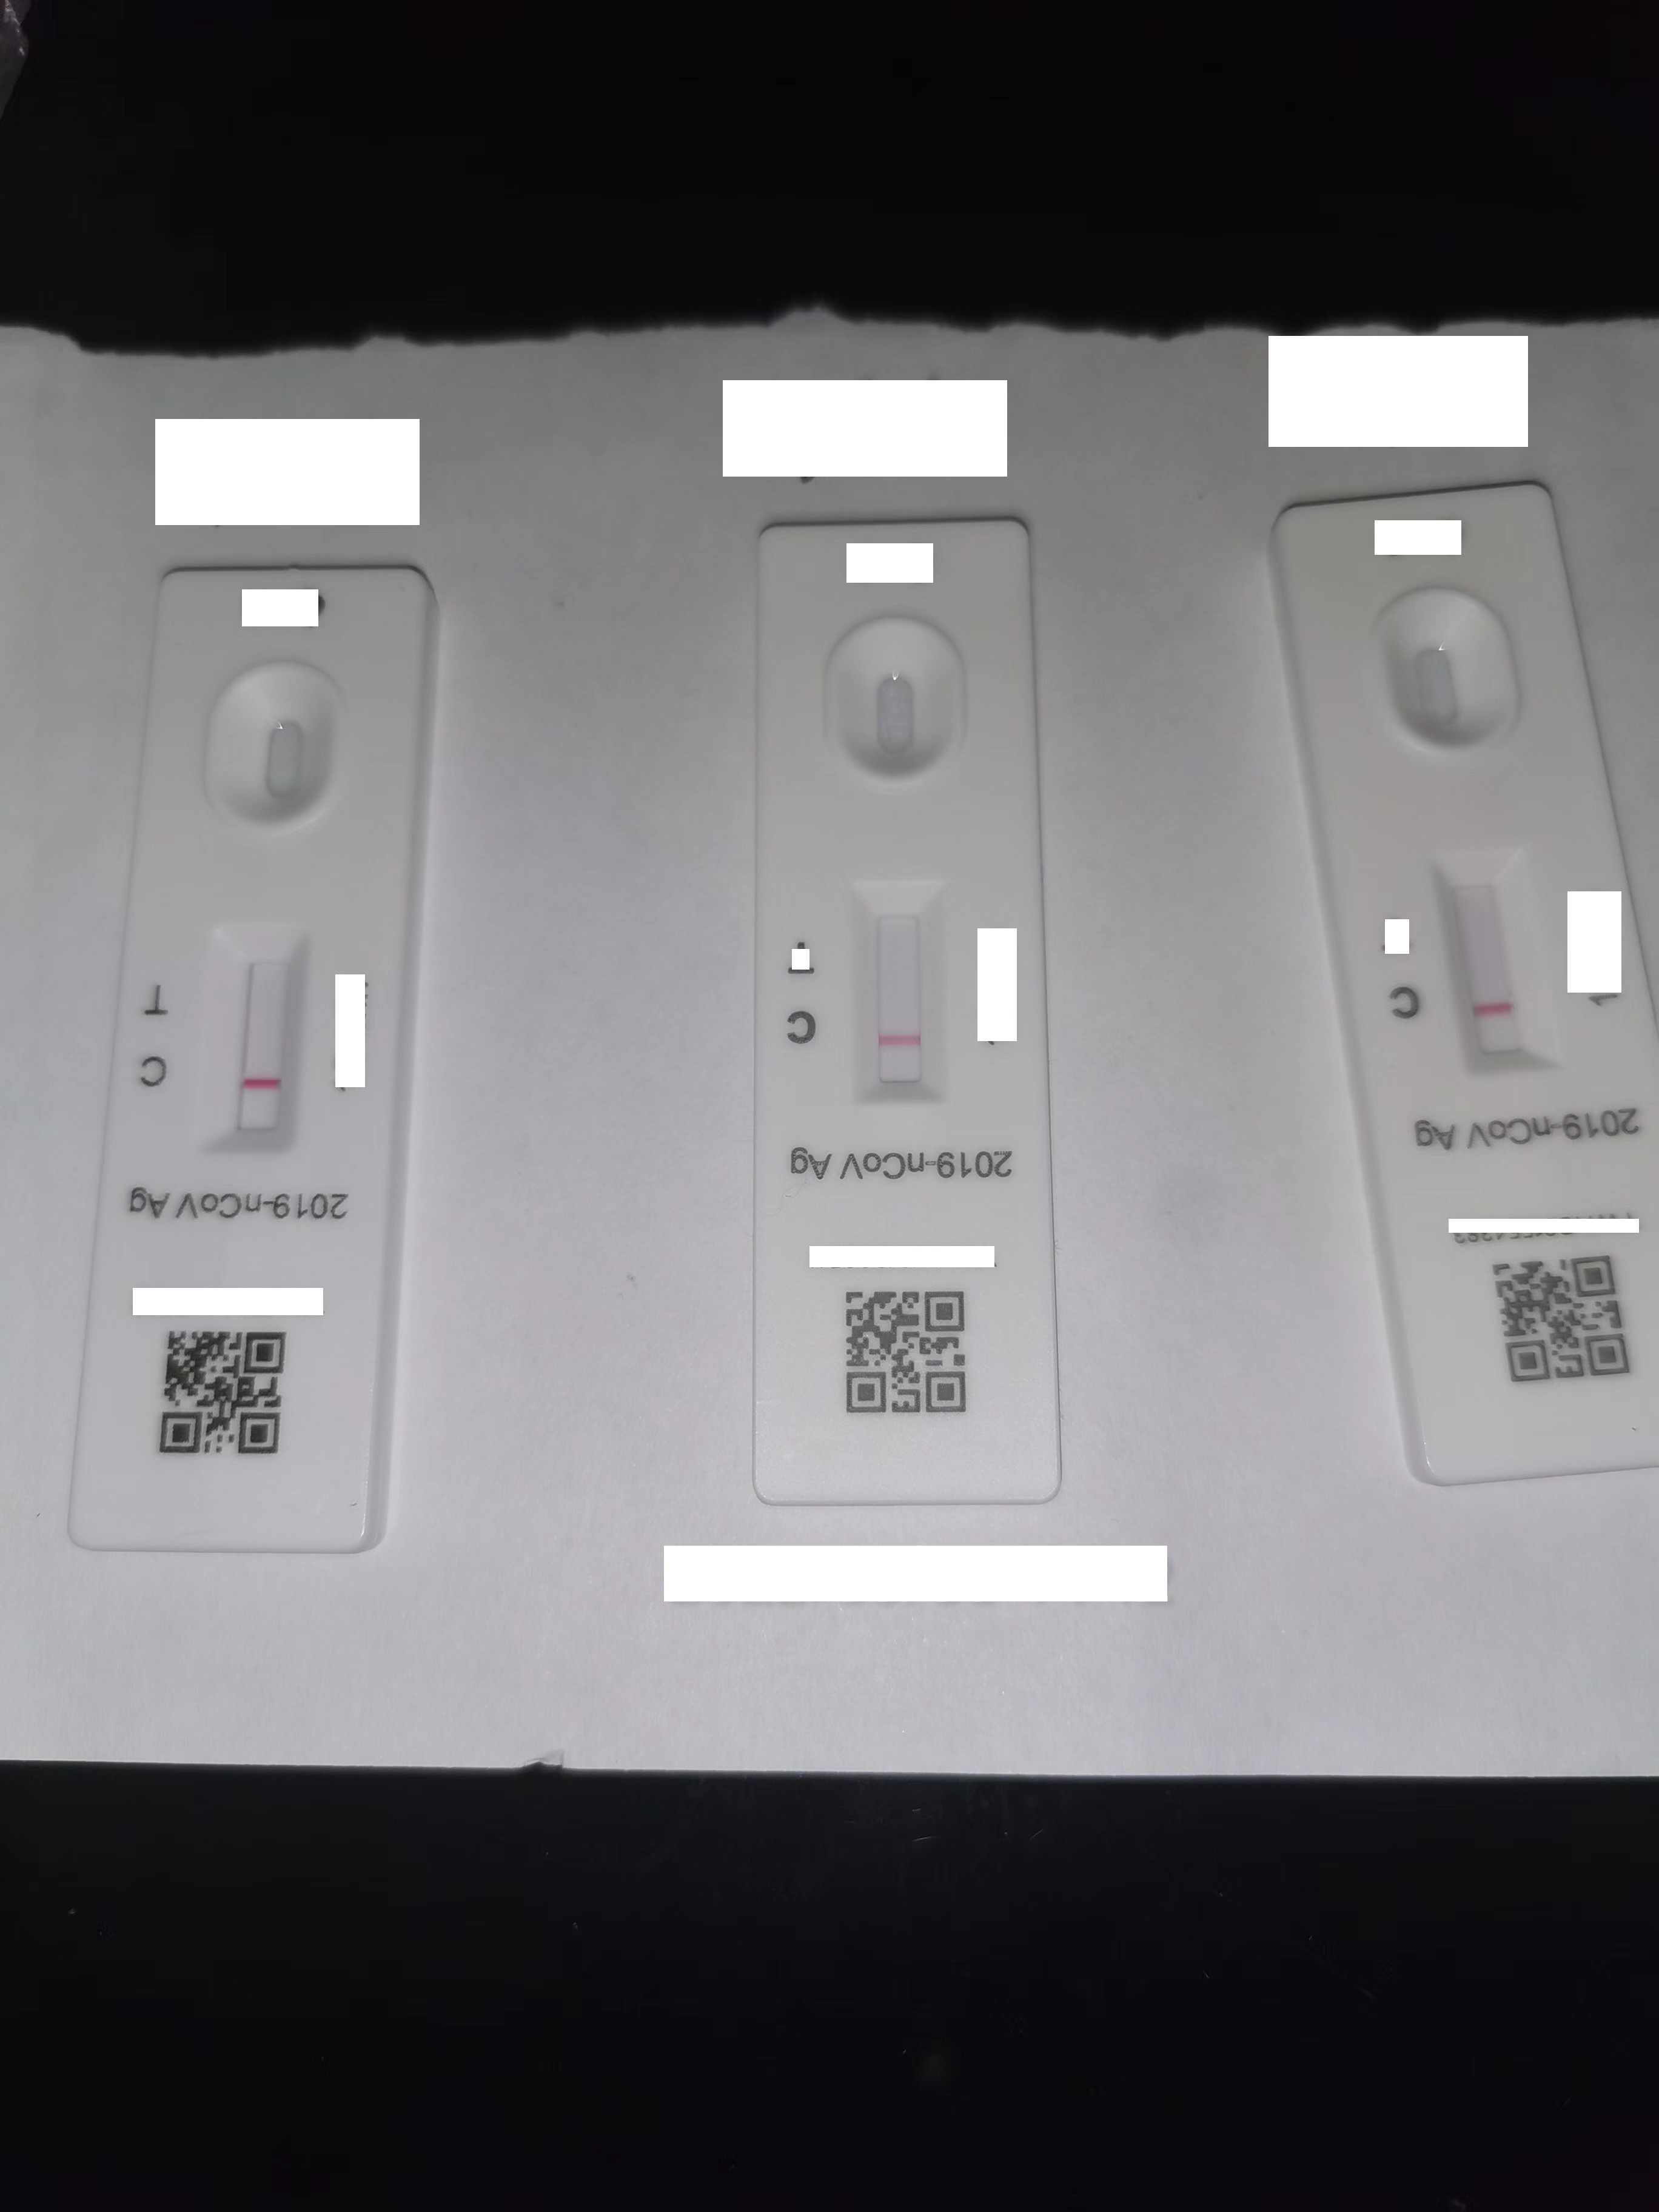negative: (1438, 850, 1547, 1073), (199, 928, 307, 1153), (850, 881, 948, 1108)
